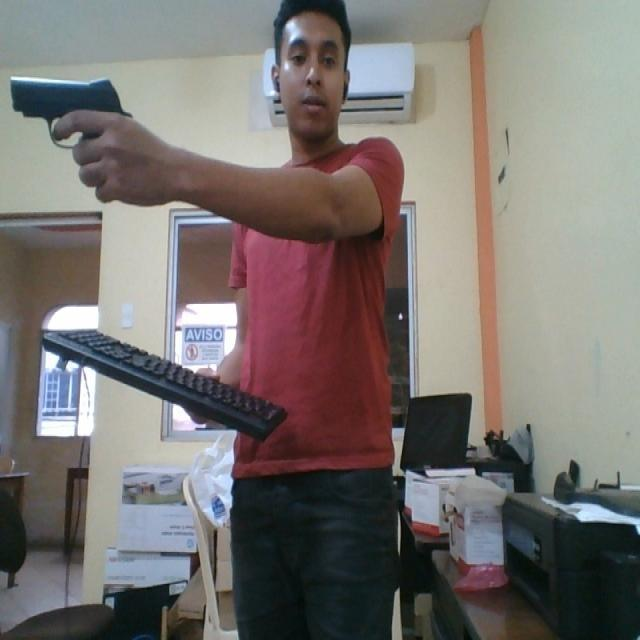weapon: (4, 72, 141, 186)
